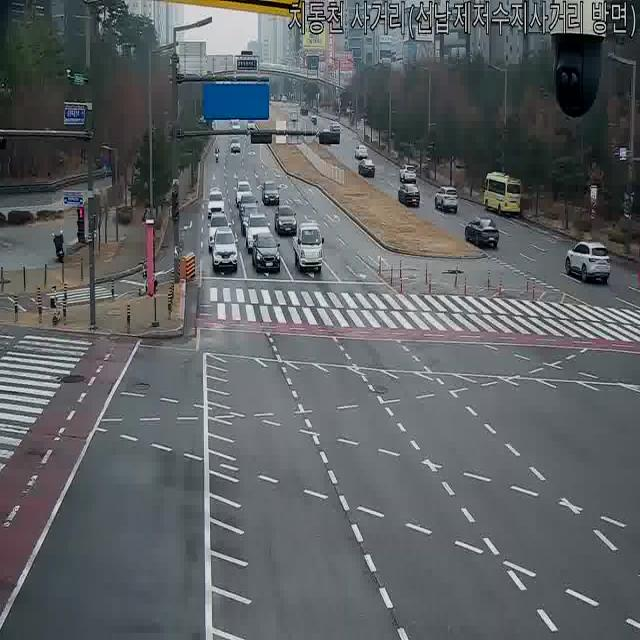Bus: (483, 172, 523, 216)
Car: (564, 240, 612, 284), (483, 172, 523, 216), (210, 228, 238, 274), (251, 232, 281, 274), (464, 218, 500, 250), (244, 213, 271, 252), (206, 212, 232, 250), (274, 204, 298, 237), (434, 185, 459, 213), (206, 188, 226, 219), (240, 207, 262, 235), (239, 193, 258, 221), (398, 184, 420, 208), (260, 181, 280, 207), (235, 180, 253, 208), (398, 164, 418, 183), (358, 158, 376, 178), (318, 129, 336, 146), (354, 144, 368, 159), (230, 115, 242, 131), (230, 138, 241, 154), (246, 118, 256, 134), (308, 110, 318, 124), (330, 121, 340, 134), (300, 102, 308, 116), (290, 110, 298, 123)
Motorcycle: (214, 146, 220, 162)
Truck: (293, 221, 325, 273), (308, 110, 318, 124)
